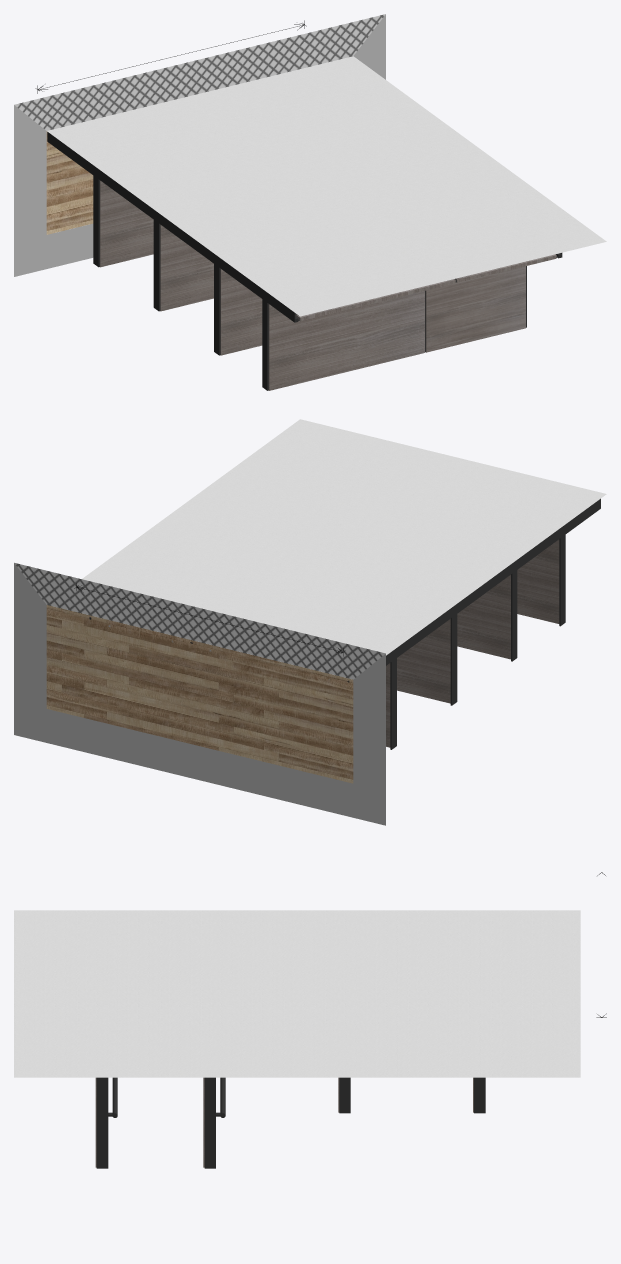
File: B3 HC Pantry V3 SC.OBJ
3 views of the same model, one above another, from view 1: azimuth 30°, elevation 25°; view 2: azimuth 150°, elevation 25°; view 3: azimuth 270°, elevation 25° (orthographic). The views are drawn at different scales.
Parts seen in each view (by area): view 1: Object_65, Object_66, Object_40, Object_43, Object_72, Object_64, Object_31, Object_37, Object_34, Object_2, Object_70, Object_68 (+6 smaller); view 2: Object_65, Object_64, Object_66, Object_70, Object_68, Object_72, Object_31, Object_34, Object_40, Object_2, Object_32, Object_38 (+2 smaller); view 3: Object_65, Object_44, Object_30.
Boxes of the visible parts, bbox=[...] form: Object_65: bbox=[47, 56, 606, 316]; Object_66: bbox=[14, 14, 385, 130]; Object_40: bbox=[268, 291, 424, 390]; Object_43: bbox=[425, 266, 525, 352]; Object_72: bbox=[14, 105, 46, 276]; Object_64: bbox=[46, 131, 93, 234]; Object_31: bbox=[160, 224, 213, 311]; Object_37: bbox=[100, 180, 153, 267]; Object_34: bbox=[220, 268, 262, 355]; Object_2: bbox=[47, 132, 298, 322]; Object_70: bbox=[14, 223, 93, 276]; Object_68: bbox=[353, 14, 385, 79]; Object_65: bbox=[82, 419, 606, 655]; Object_64: bbox=[46, 605, 353, 783]; Object_66: bbox=[14, 562, 385, 679]; Object_70: bbox=[14, 709, 385, 825]; Object_68: bbox=[14, 563, 46, 734]; Object_72: bbox=[353, 654, 385, 825]; Object_31: bbox=[397, 619, 450, 703]; Object_34: bbox=[457, 575, 510, 659]; Object_40: bbox=[517, 539, 559, 623]; Object_2: bbox=[386, 498, 600, 665]; Object_32: bbox=[450, 614, 457, 705]; Object_38: bbox=[390, 658, 396, 749]; Object_65: bbox=[14, 910, 580, 1077]; Object_44: bbox=[96, 1077, 108, 1168]; Object_30: bbox=[204, 1077, 215, 1168].
Size of the model in its own units: 2280 by 1034 by 2817.
Materials: 11 (11 with a texture image).
